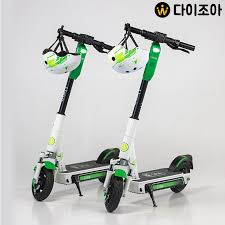kick_board: (105, 24, 196, 210)
kick_body: (140, 170, 178, 186)
kick_handler: (126, 23, 196, 55), (59, 25, 118, 53)
kick_wheel: (32, 161, 53, 201), (172, 155, 193, 192), (104, 178, 125, 211)
